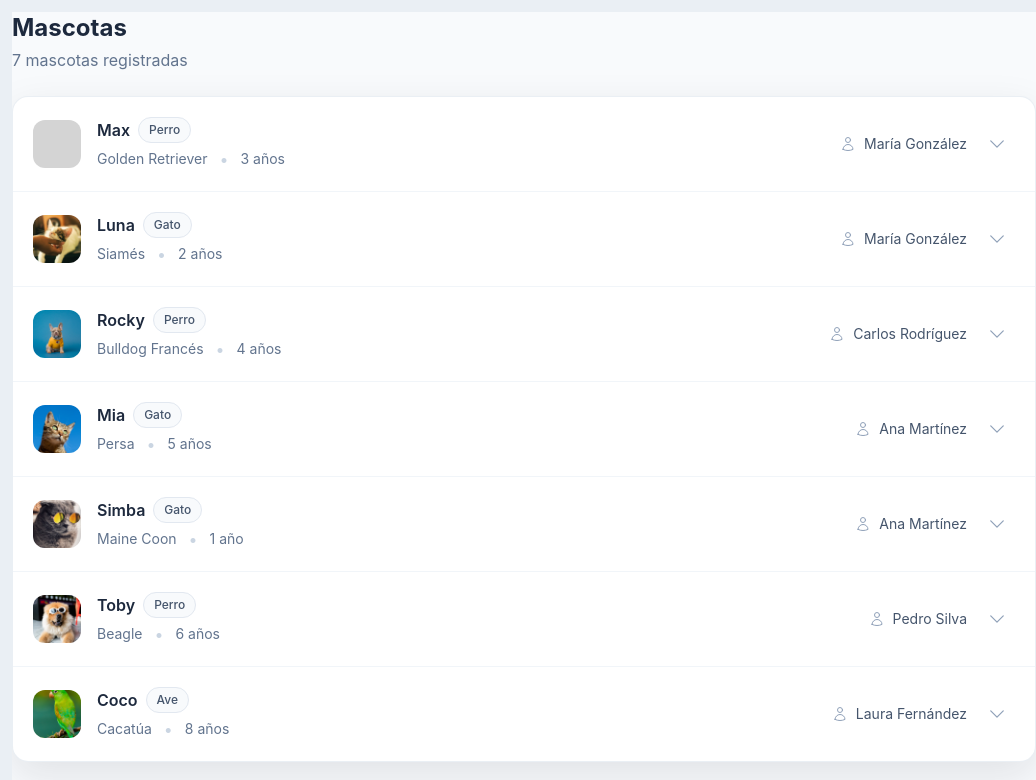
it: PetsPage › Expandir mascota - Historial médico › colapsa la mascota al hacer click de nuevo
Check: the heading "Max" is shown, box [97,118,130,142]
Step 1. Click the text "Max" → (57, 144), box [33,117,1015,169]
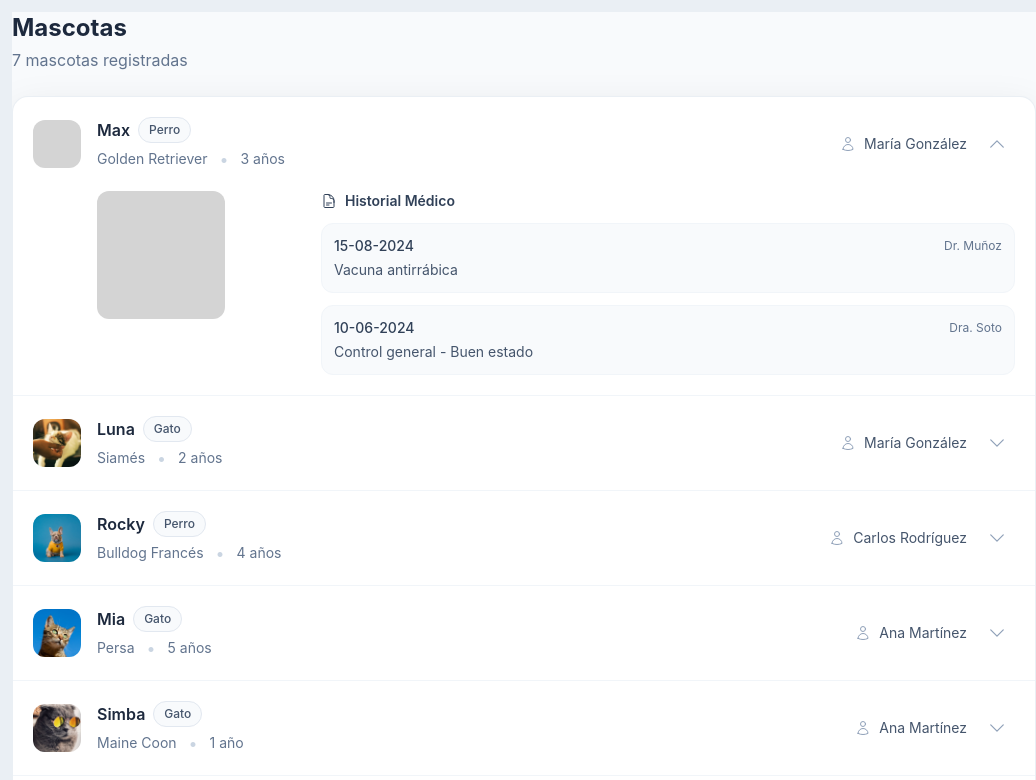
Check: the heading "Historial Médico" is shown, box [321,192,455,209]
Step 2. Click the text "Max" → (57, 144), box [33,117,1015,169]
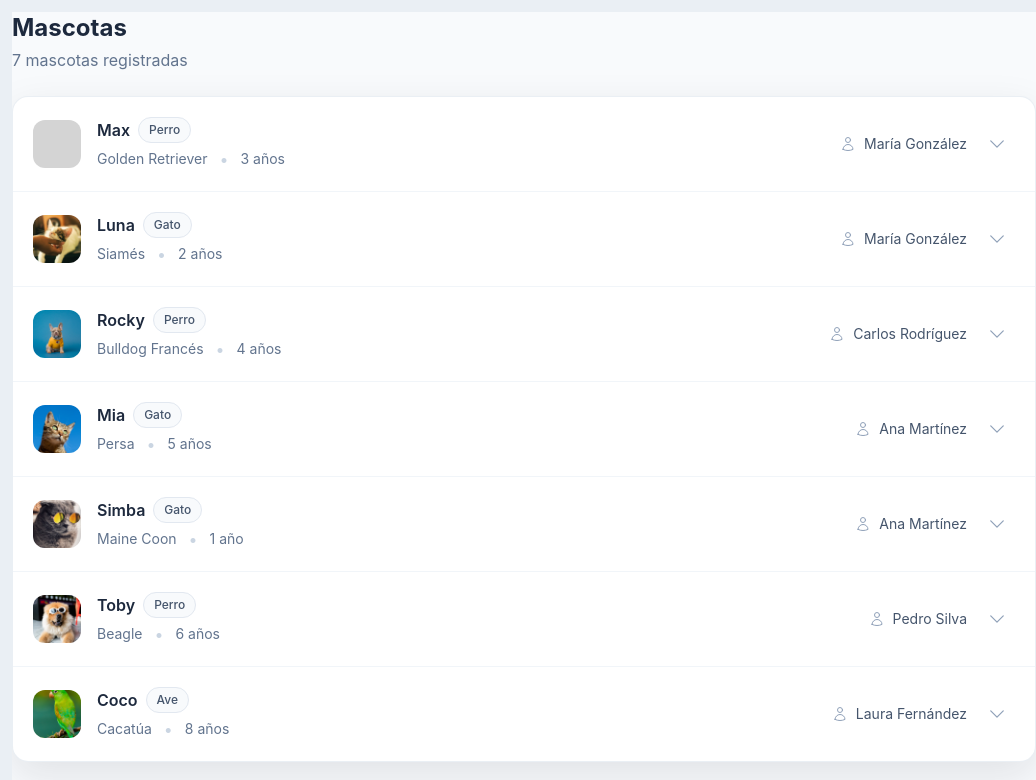
Check: the heading "Historial Médico" is gone
